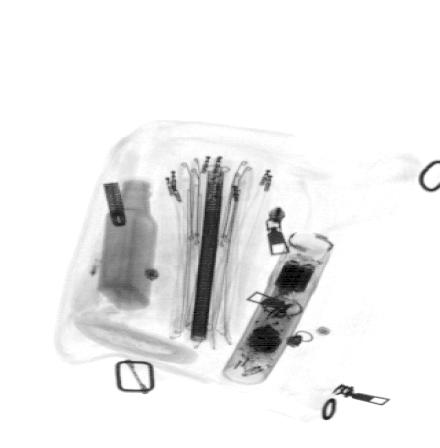Baton: (218, 230, 339, 388)
